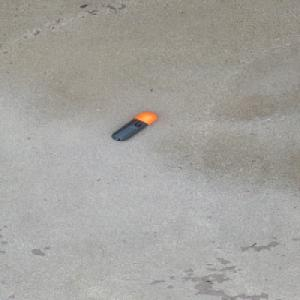PlasticPart: (110, 111, 158, 141)
